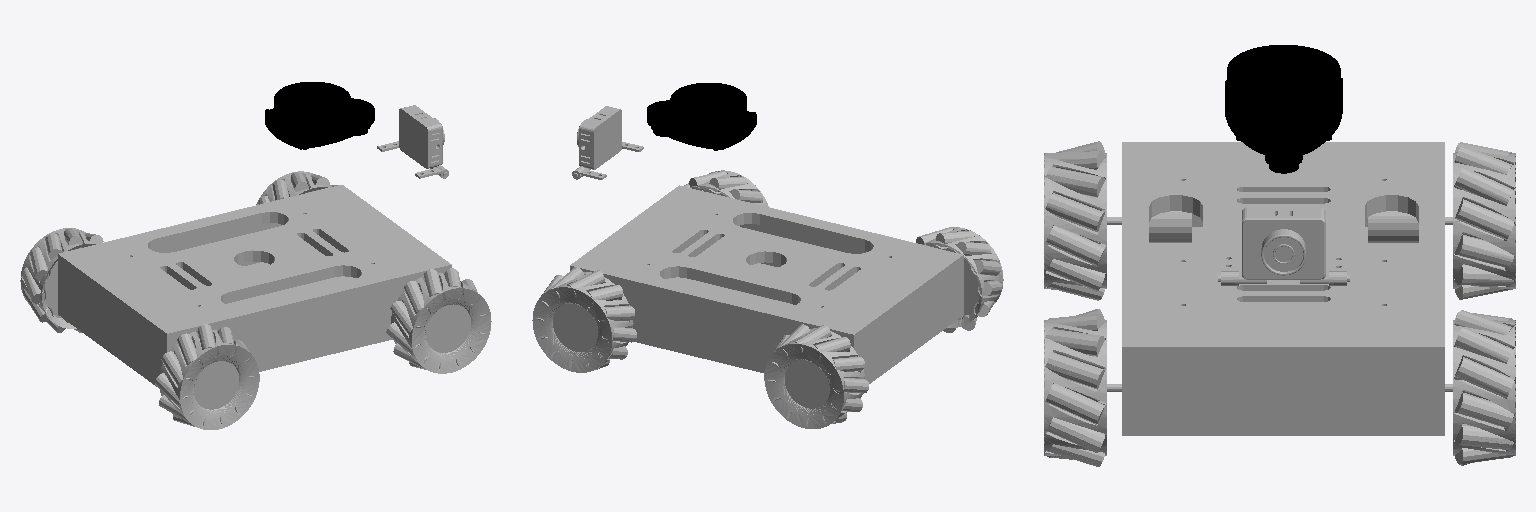
The robot description file, URDF, robot "zhongxi_description":
<?xml version="1.0" encoding="utf-8"?>
<!-- This URDF was automatically created by SolidWorks to URDF Exporter! Originally created by Stephen Brawner (brawner@gmail.com) 
     Commit Version: 1.6.0-4-g7f85cfe  Build Version: 1.6.7995.38578
     For more information, please see http://wiki.ros.org/sw_urdf_exporter -->
<robot
  name="zhongxi_description">
  <link
    name="base_link">
    <inertial>
      <origin
        xyz="3.2559E-07 -0.0014829 -0.034409"
        rpy="0 0 0" />
      <mass
        value="2.1947" />
      <inertia
        ixx="0.0036797"
        ixy="-1.7403E-09"
        ixz="-1.2977E-09"
        iyy="0.0064143"
        iyz="-1.0658E-10"
        izz="0.0083734" />
    </inertial>
    <visual>
      <origin
        xyz="0 0 0"
        rpy="0 0 0" />
      <geometry>
        <mesh
          filename="package://zhongxi_description/meshes/base_link.STL" />
      </geometry>
      <material
        name="">
        <color
          rgba="0.75294 0.75294 0.75294 1" />
      </material>
    </visual>
    <collision>
      <origin
        xyz="0 0 0"
        rpy="0 0 0" />
      <geometry>
        <mesh
          filename="package://zhongxi_description/meshes/base_link.STL" />
      </geometry>
    </collision>
  </link>
  <link
    name="laser_link">
    <inertial>
      <origin
        xyz="0.0027419 3.7921E-05 0.0015518"
        rpy="0 0 0" />
      <mass
        value="0.092202" />
      <inertia
        ixx="2.5005E-05"
        ixy="1.7158E-07"
        ixz="1.8006E-06"
        iyy="3.5759E-05"
        iyz="-3.316E-08"
        izz="5.6292E-05" />
    </inertial>
    <visual>
      <origin
        xyz="0 0 0"
        rpy="0 0 0" />
      <geometry>
        <mesh
          filename="package://zhongxi_description/meshes/laser_link.STL" />
      </geometry>
      <material
        name="">
        <color
          rgba="0 0 0 1" />
      </material>
    </visual>
    <collision>
      <origin
        xyz="0 0 0"
        rpy="0 0 0" />
      <geometry>
        <mesh
          filename="package://zhongxi_description/meshes/laser_link.STL" />
      </geometry>
    </collision>
  </link>
  <joint
    name="laser_joint"
    type="fixed">
    <origin
      xyz="0.0549999999999995 0 0.117"
      rpy="0 0 0" />
    <parent
      link="base_link" />
    <child
      link="laser_link" />
    <axis
      xyz="0 0 0" />
  </joint>
  <link
    name="camera_link">
    <inertial>
      <origin
        xyz="-0.0063732 -5.0113E-06 -0.0014012"
        rpy="0 0 0" />
      <mass
        value="0.030127" />
      <inertia
        ixx="7.8571E-06"
        ixy="7.293E-12"
        ixz="9.885E-09"
        iyy="3.6895E-06"
        iyz="5.3112E-10"
        izz="5.329E-06" />
    </inertial>
    <visual>
      <origin
        xyz="0 0 0"
        rpy="0 0 0" />
      <geometry>
        <mesh
          filename="package://zhongxi_description/meshes/camera_link.STL" />
      </geometry>
      <material
        name="">
        <color
          rgba="0.75294 0.75294 0.75294 1" />
      </material>
    </visual>
    <collision>
      <origin
        xyz="0 0 0"
        rpy="0 0 0" />
      <geometry>
        <mesh
          filename="package://zhongxi_description/meshes/camera_link.STL" />
      </geometry>
    </collision>
  </link>
  <joint
    name="camera_joint"
    type="fixed">
    <origin
      xyz="0.1655 0 0.074"
      rpy="0 0 0" />
    <parent
      link="base_link" />
    <child
      link="camera_link" />
    <axis
      xyz="0 0 0" />
  </joint>
</robot>

--- Render facts (derived) ---
Views: 3 orthographic renders of the robot side by side, from view 1: azimuth 30°, elevation 25°; view 2: azimuth 150°, elevation 25°; view 3: azimuth 270°, elevation 25°.
Model zhongxi_description with 3 links and 2 joints (2 fixed), rooted at base_link, posed every joint at zero.
Links seen in each view (by area): view 1: base_link, laser_link, camera_link; view 2: base_link, laser_link, camera_link; view 3: base_link, laser_link, camera_link.
Boxes of the visible links, left/top/right/bottom form: base_link: left=20, top=171, right=491, bottom=429; laser_link: left=265, top=82, right=374, bottom=149; camera_link: left=377, top=105, right=448, bottom=178; base_link: left=532, top=170, right=1003, bottom=428; laser_link: left=647, top=83, right=756, bottom=150; camera_link: left=572, top=106, right=643, bottom=179; base_link: left=1044, top=141, right=1515, bottom=466; laser_link: left=1225, top=45, right=1342, bottom=173; camera_link: left=1218, top=207, right=1349, bottom=285.
Size in the robot's own frame: 0.3279 by 0.2623 by 0.2155 metres.
3 mesh visuals loaded from 3 distinct referenced files (3 binary STL).
